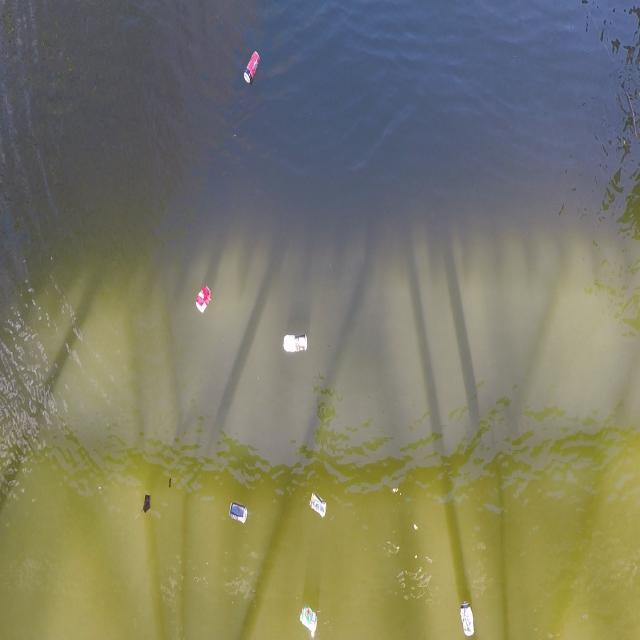Non plastique: (296, 599, 325, 640), (242, 46, 265, 93), (455, 591, 477, 640), (280, 328, 312, 361), (192, 280, 215, 319), (227, 499, 252, 533), (306, 491, 330, 520)
